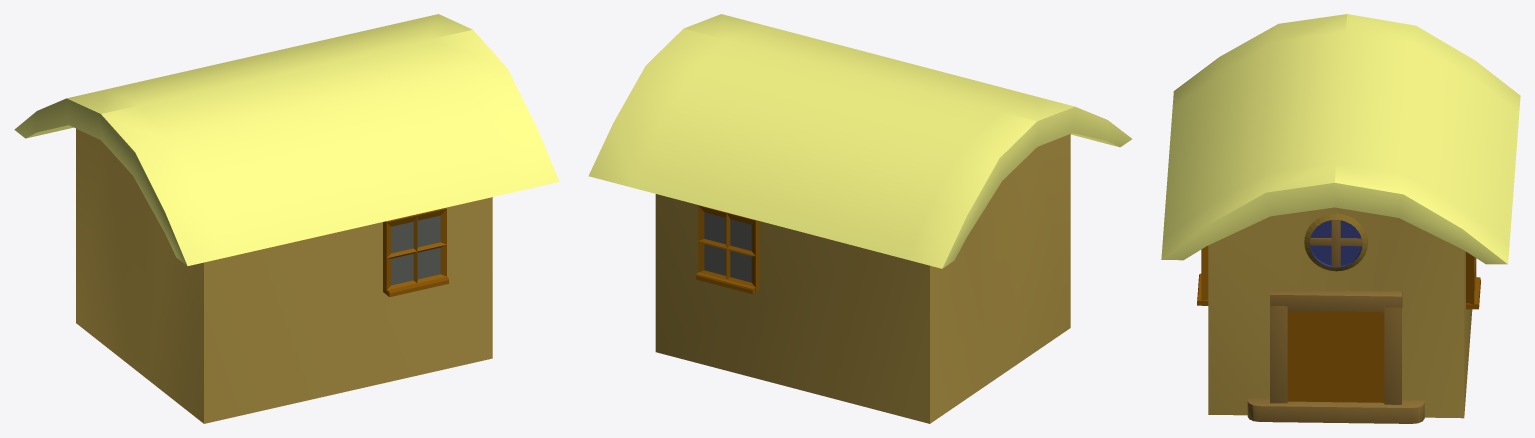
The model's file is mini house.fbx.
3 views of the same model, side by side, from view 1: azimuth 30°, elevation 25°; view 2: azimuth 150°, elevation 25°; view 3: azimuth 270°, elevation 25° (orthographic). The views are drawn at different scales.
Visible parts, largest first — view 1: HOUSEsmall; view 2: HOUSEsmall; view 3: HOUSEsmall.
Part boxes in pixels (bbox=[...]): HOUSEsmall: bbox=[14, 14, 559, 423]; HOUSEsmall: bbox=[588, 14, 1131, 423]; HOUSEsmall: bbox=[1161, 14, 1520, 423].
Size of the model in its own units: 663 by 453 by 581.
